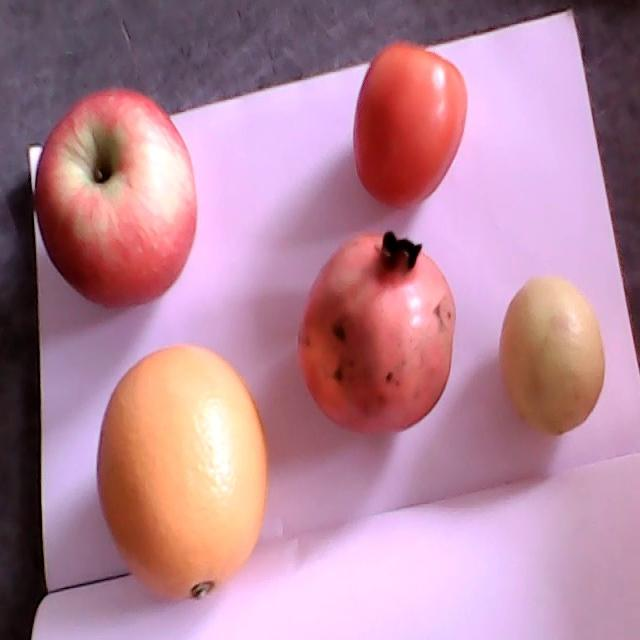apple: (35, 88, 198, 309)
lemon: (499, 275, 604, 437)
orange: (97, 347, 267, 600)
pomegranate: (298, 230, 456, 436)
tomato: (352, 43, 468, 208)
